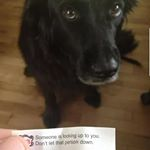puppy: (20, 1, 133, 124)
